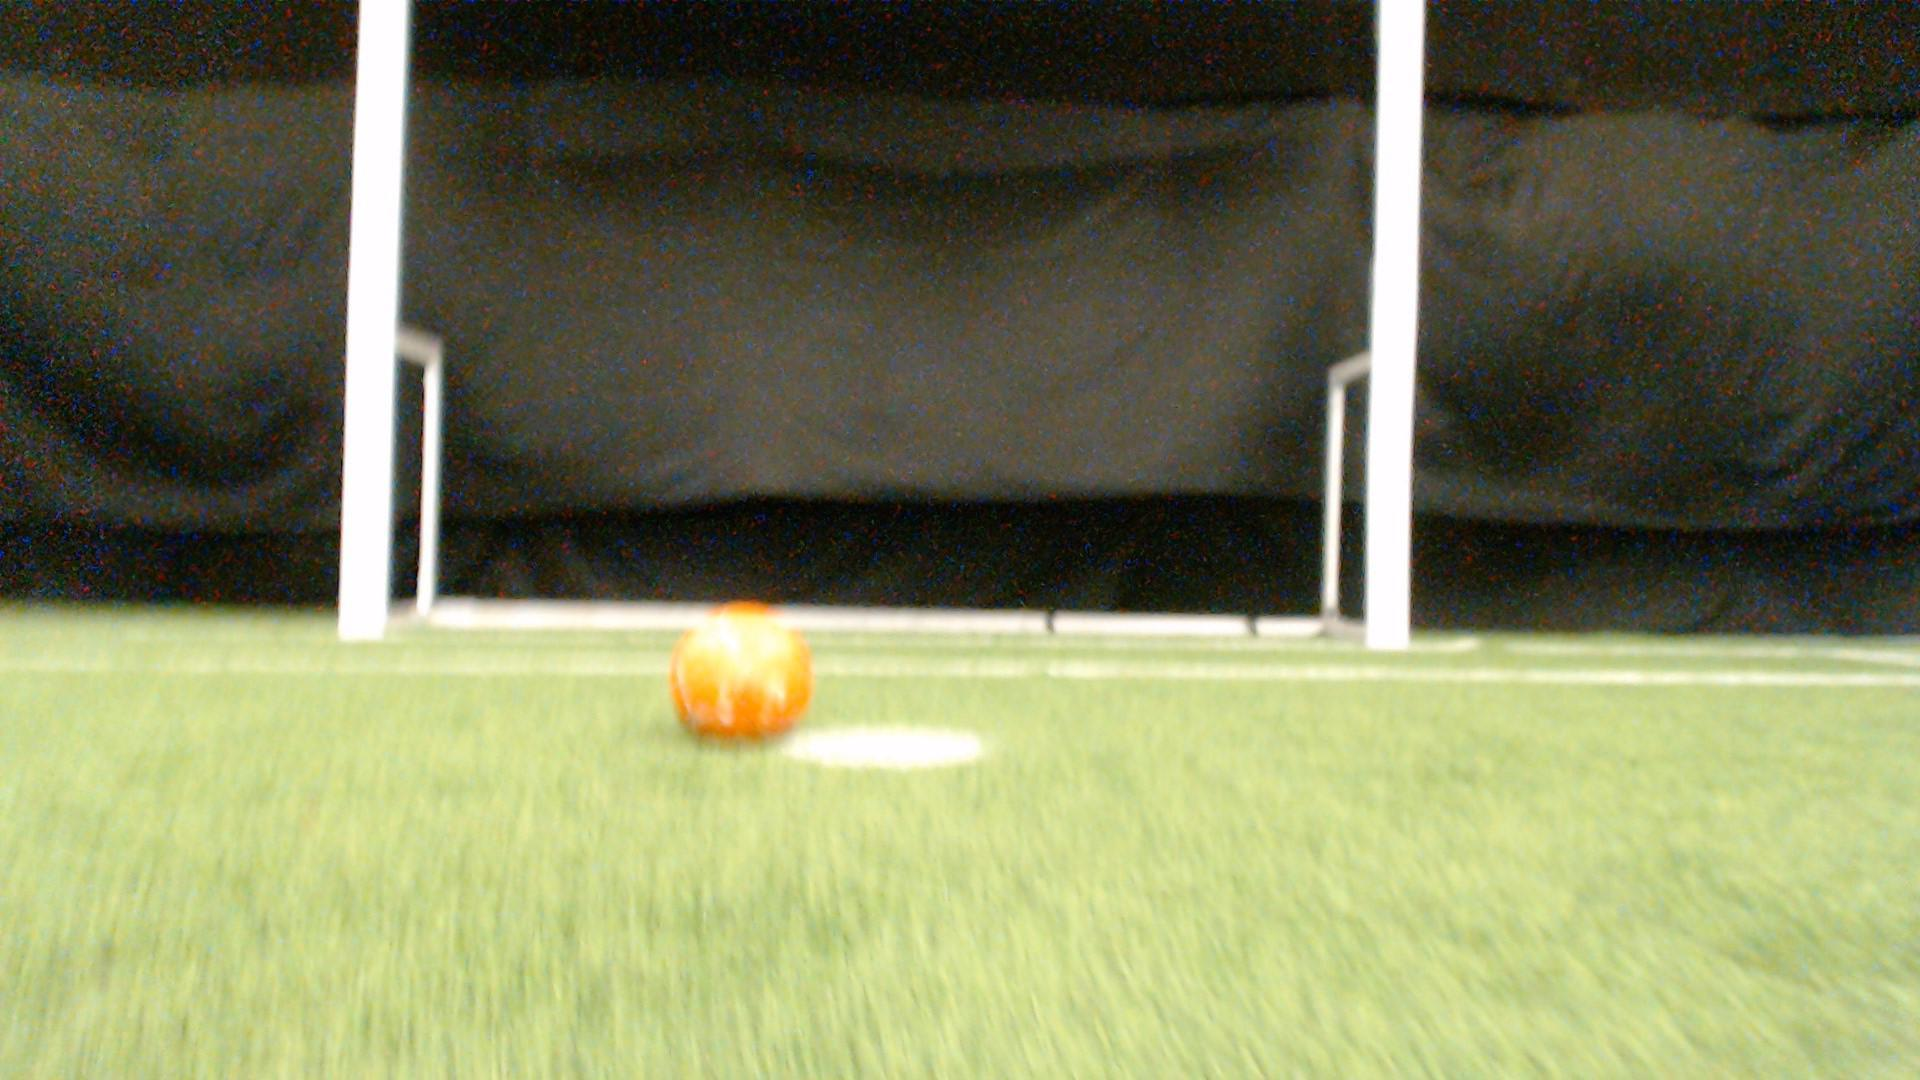bola: (655, 592, 839, 760)
